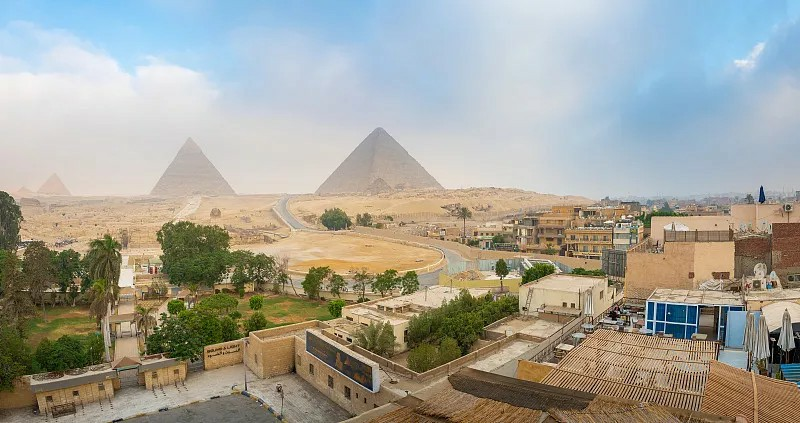Pyramid: (314, 127, 445, 193), (149, 138, 237, 197), (36, 173, 73, 198)
